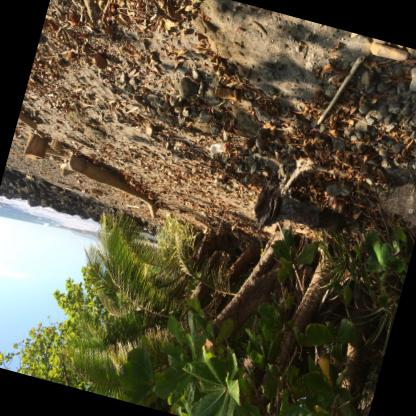Plastic: (208, 140, 226, 153), (224, 143, 225, 146)
